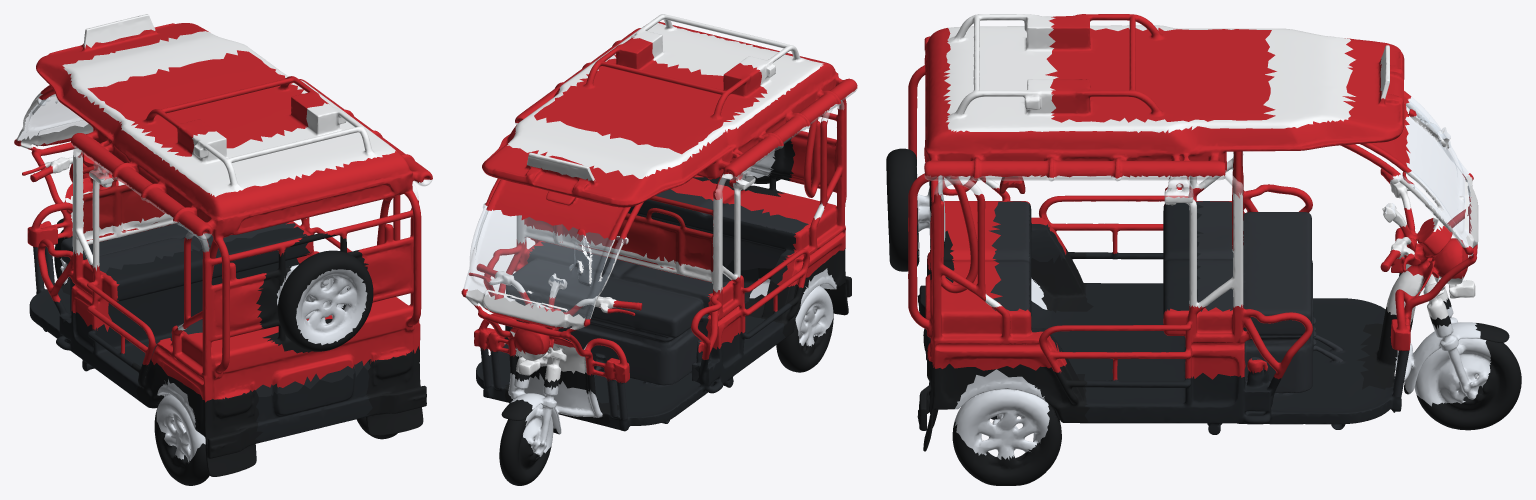
The model's file is balaji-rickshaw.glb.
3 views of the same model, side by side, from view 1: azimuth 30°, elevation 25°; view 2: azimuth 150°, elevation 25°; view 3: azimuth 270°, elevation 25° (orthographic). The views are drawn at different scales.
Visible parts, largest first — view 1: Canopy_Top, Body_Panels, LuggageRack_Rails, Traction_Battery_Cradle, RearWheelRight_Tire, SpareWheel_Tire, Chassis_Floorboard, Motor_Differential, Chassis_Frame, RearWheelLeft_Tire, SpareWheel_Rim, FrontCowl_Apron (+6 smaller); view 2: Canopy_Top, Chassis_Floorboard, LuggageRack_Rails, Body_Panels, Windshield_Glass, Chassis_Frame, FrontCowl_Apron, Cabin_Seats, RearWheelRight_Tire, FrontWheel_Tire, SafetyGates_Rails, FrontWheel_Rim (+8 smaller); view 3: Canopy_Top, Body_Panels, LuggageRack_Rails, Chassis_Floorboard, Chassis_Frame, Traction_Battery_Cradle, RearWheelLeft_Tire, FrontWheel_Tire, RearWheelLeft_Rim, FrontWheel_Rim, FrontCowl_Apron, Windshield_Glass (+10 smaller).
Part boxes in pixels (<box>): Canopy_Top: <box>36,23,432,257</box>; Body_Panels: <box>37,195,421,402</box>; LuggageRack_Rails: <box>62,14,395,196</box>; Traction_Battery_Cradle: <box>106,226,309,369</box>; RearWheelRight_Tire: <box>131,359,262,485</box>; SpareWheel_Tire: <box>256,233,373,353</box>; Chassis_Floorboard: <box>33,222,370,396</box>; Motor_Differential: <box>255,366,372,442</box>; Chassis_Frame: <box>29,288,139,400</box>; RearWheelLeft_Tire: <box>356,346,426,439</box>; SpareWheel_Rim: <box>277,264,367,345</box>; FrontCowl_Apron: <box>14,134,126,247</box>; Canopy_Top: <box>482,22,857,240</box>; Chassis_Floorboard: <box>480,189,808,420</box>; LuggageRack_Rails: <box>507,14,823,180</box>; Body_Panels: <box>483,99,846,359</box>; Windshield_Glass: <box>464,205,626,319</box>; Chassis_Frame: <box>476,300,791,431</box>; FrontCowl_Apron: <box>461,263,642,383</box>; Cabin_Seats: <box>524,131,798,282</box>; RearWheelRight_Tire: <box>745,248,851,372</box>; FrontWheel_Tire: <box>499,354,619,485</box>; SafetyGates_Rails: <box>516,178,824,292</box>; FrontWheel_Rim: <box>508,373,602,456</box>; Canopy_Top: <box>910,14,1416,191</box>; Body_Panels: <box>908,79,1312,380</box>; LuggageRack_Rails: <box>943,14,1389,132</box>; Chassis_Floorboard: <box>925,201,1409,397</box>; Chassis_Frame: <box>1083,252,1401,434</box>; Traction_Battery_Cradle: <box>1028,203,1203,400</box>; RearWheelLeft_Tire: <box>917,350,1089,485</box>; FrontWheel_Tire: <box>1357,298,1521,430</box>; RearWheelLeft_Rim: <box>954,369,1049,459</box>; FrontWheel_Rim: <box>1395,306,1491,406</box>; FrontCowl_Apron: <box>1380,168,1477,350</box>; Windshield_Glass: <box>1385,97,1471,246</box>.
Size of the model in its own units: 1.36 by 1.73 by 2.66.
